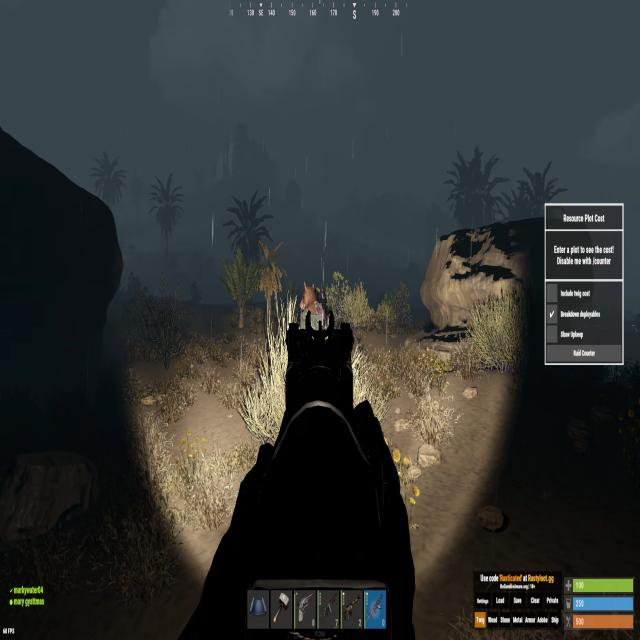Player: (298, 277, 327, 328)
